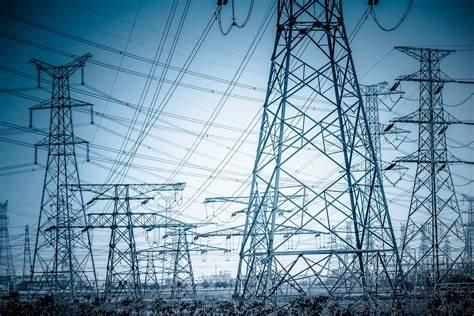power_tower: (388, 41, 469, 303), (26, 50, 99, 307), (83, 174, 161, 313)
